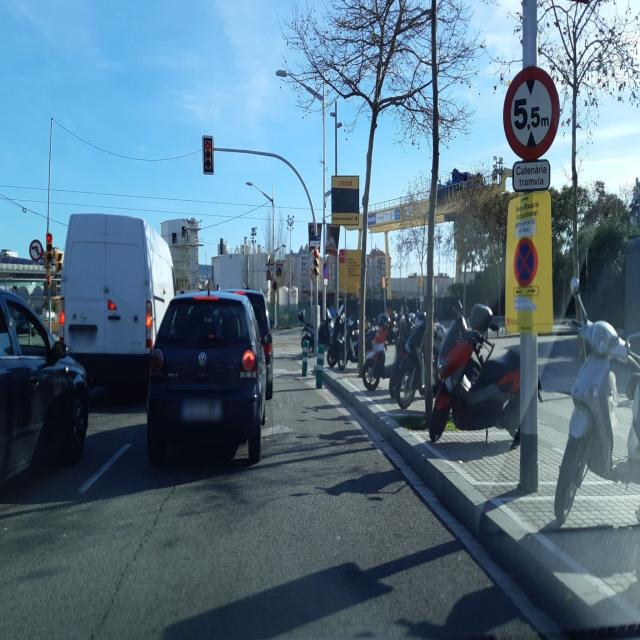forb_stopping: (323, 263, 328, 279)
forb_waiting: (514, 236, 537, 289)
